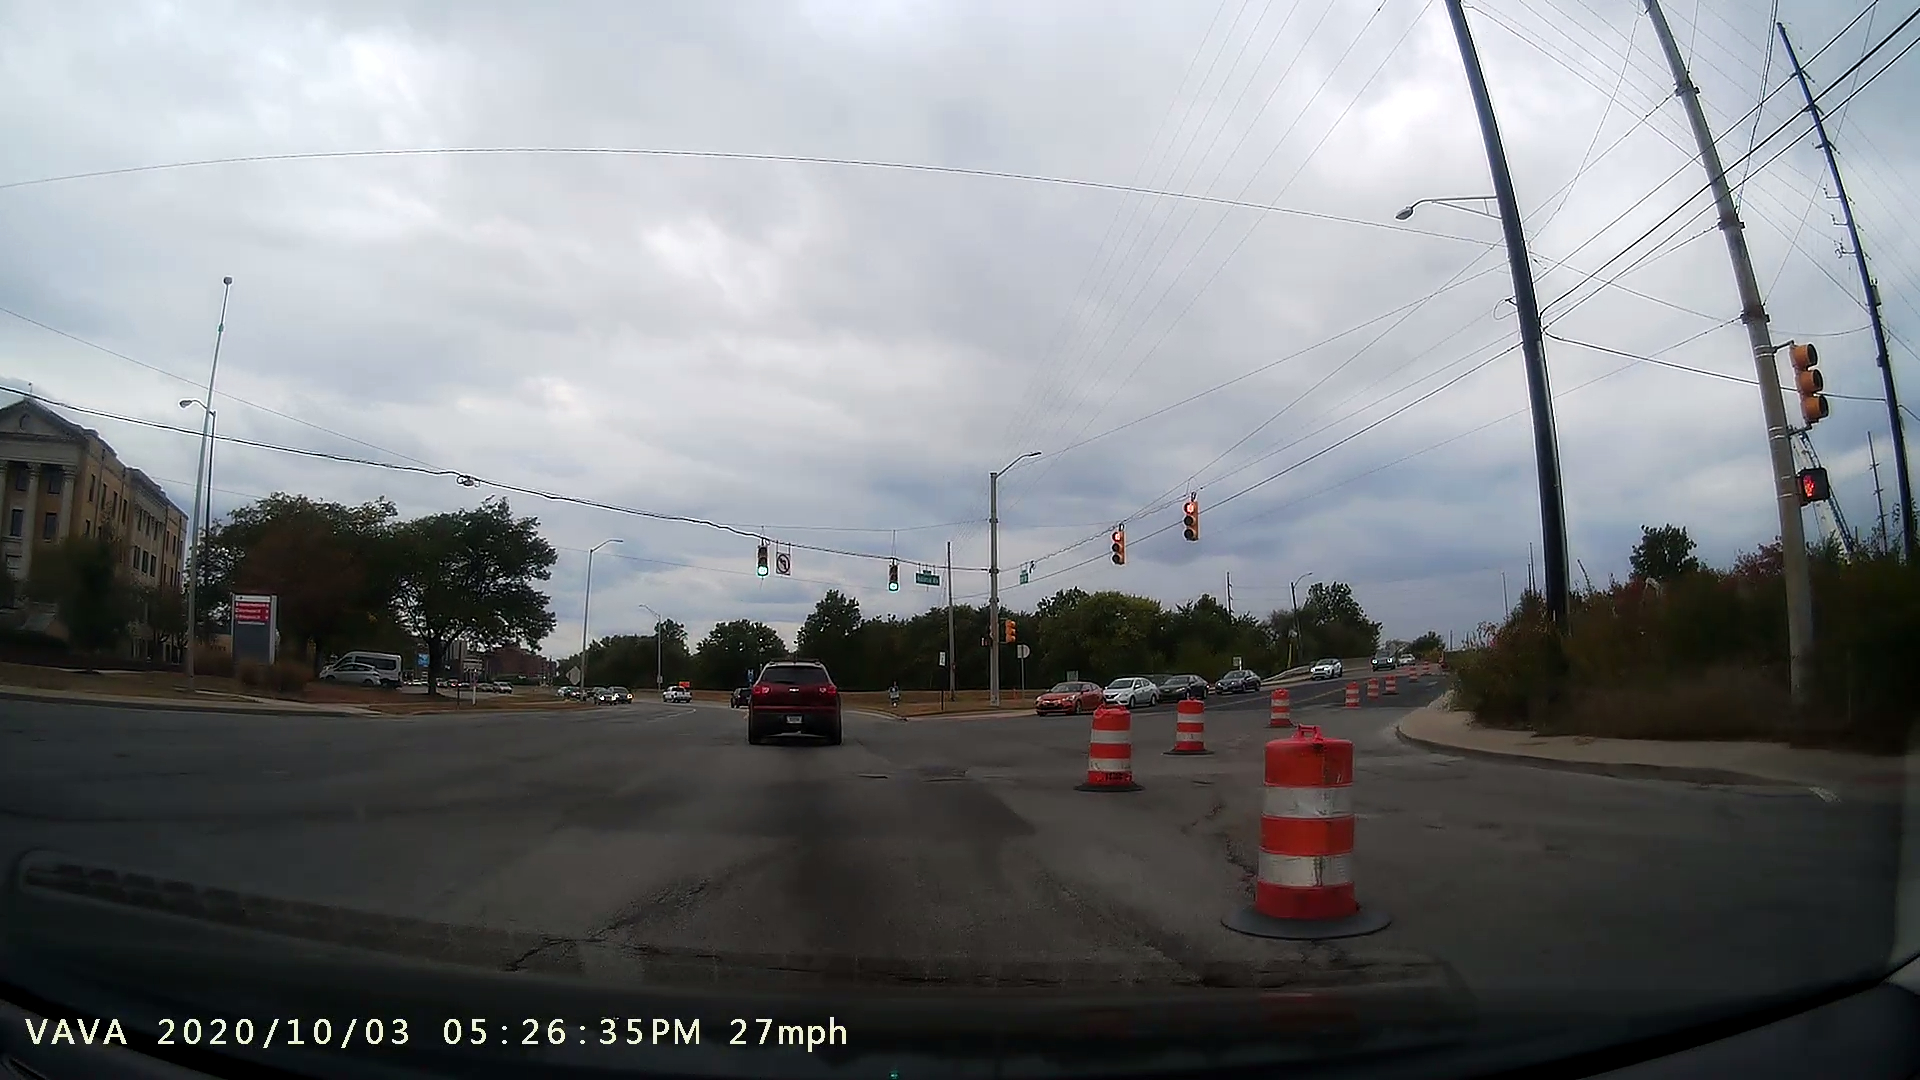const_barrel: (1207, 727, 1395, 938), (1054, 688, 1149, 800), (1163, 679, 1222, 762), (1257, 678, 1321, 737)
